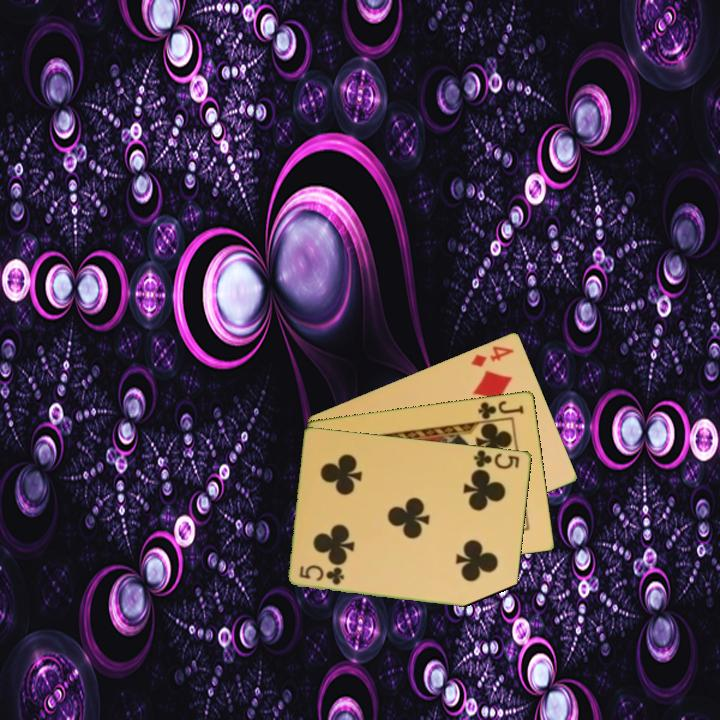4d: (468, 342, 517, 370)
5c: (470, 446, 523, 472), (296, 562, 348, 587)
Jc: (475, 397, 527, 422)
